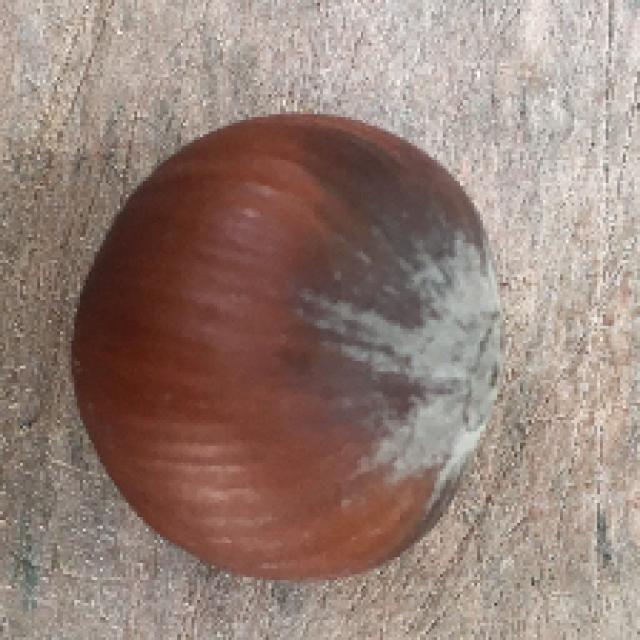damagedHazelnut: (51, 106, 543, 595)
